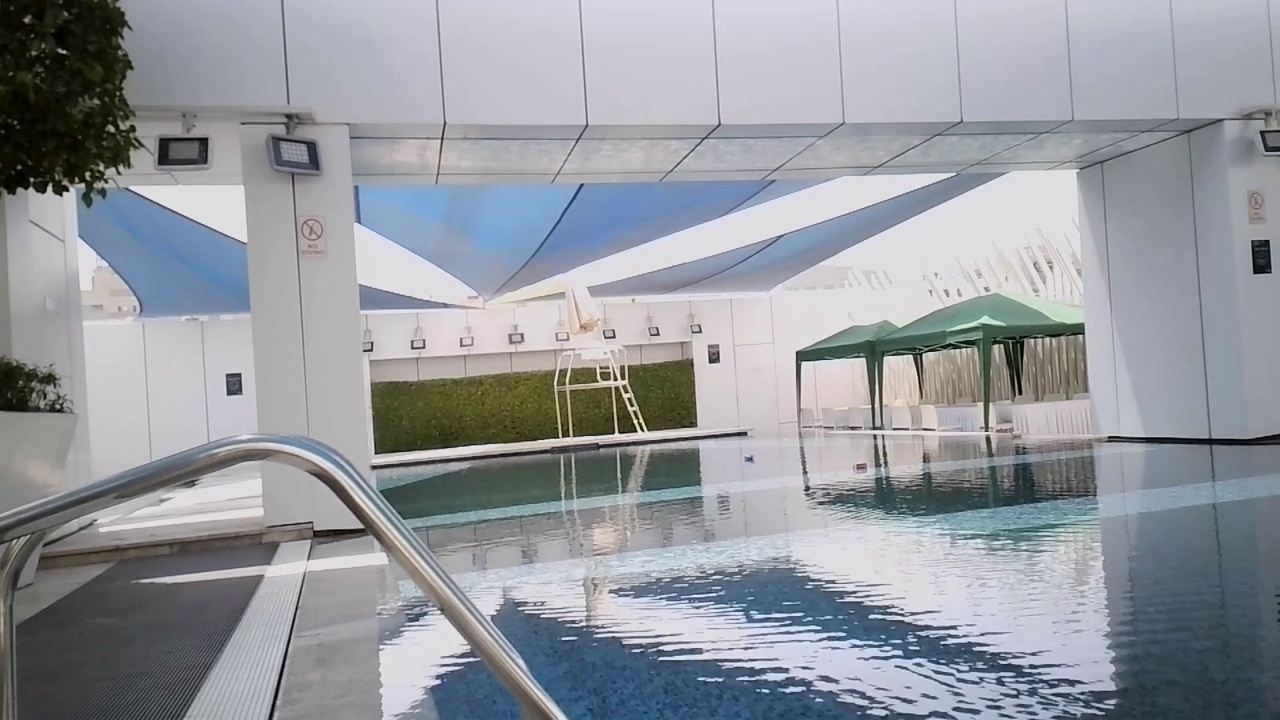debris: (848, 459, 872, 475), (1006, 430, 1026, 443), (740, 451, 758, 465)
